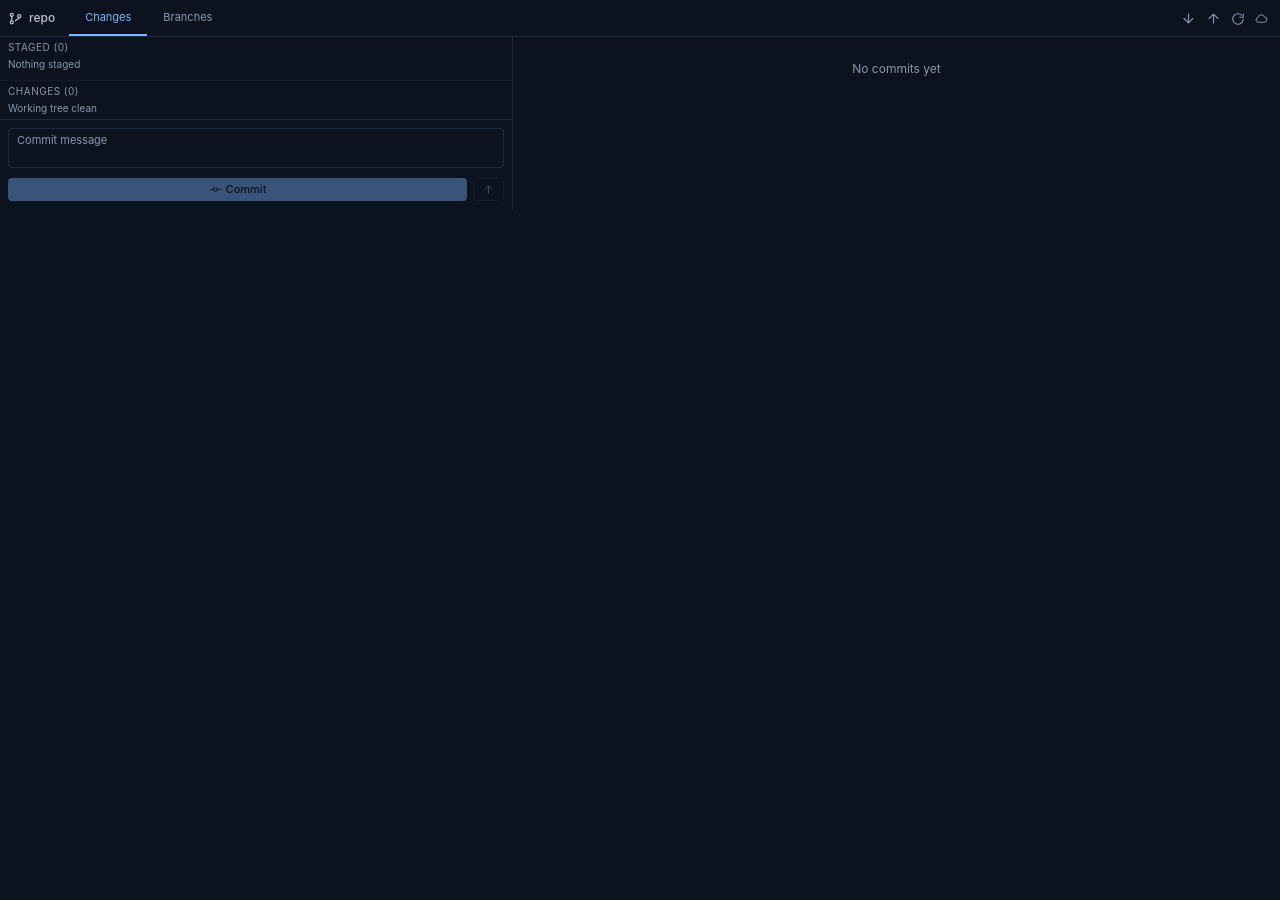
Test case: GitPanel confirmations › adds the production warning on a prod tab
Click the button named "Pull" at coordinates (1188, 18), box [1177, 6, 1200, 30]
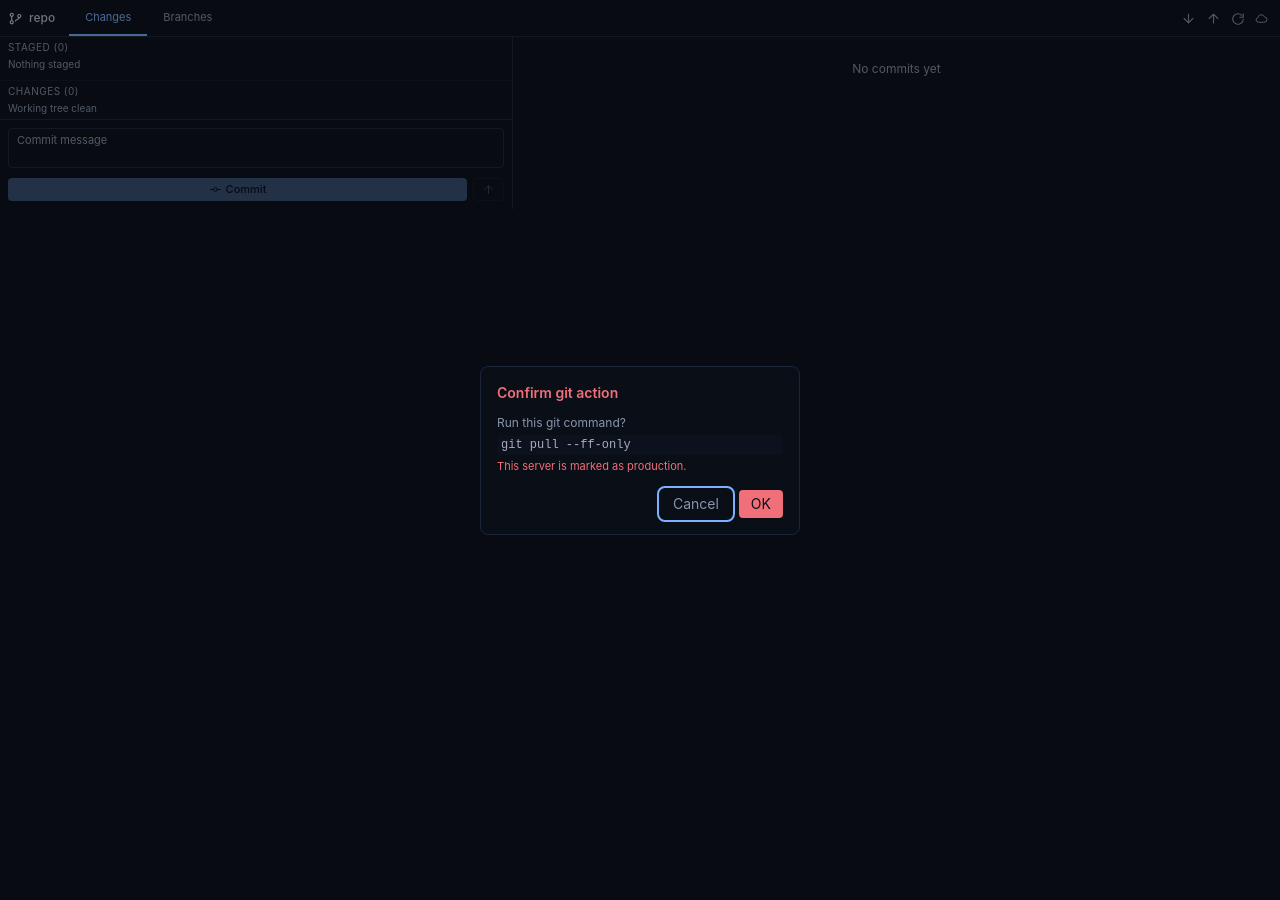
expect the text "This server is marked as production." is shown: met, box [497, 459, 686, 473]
